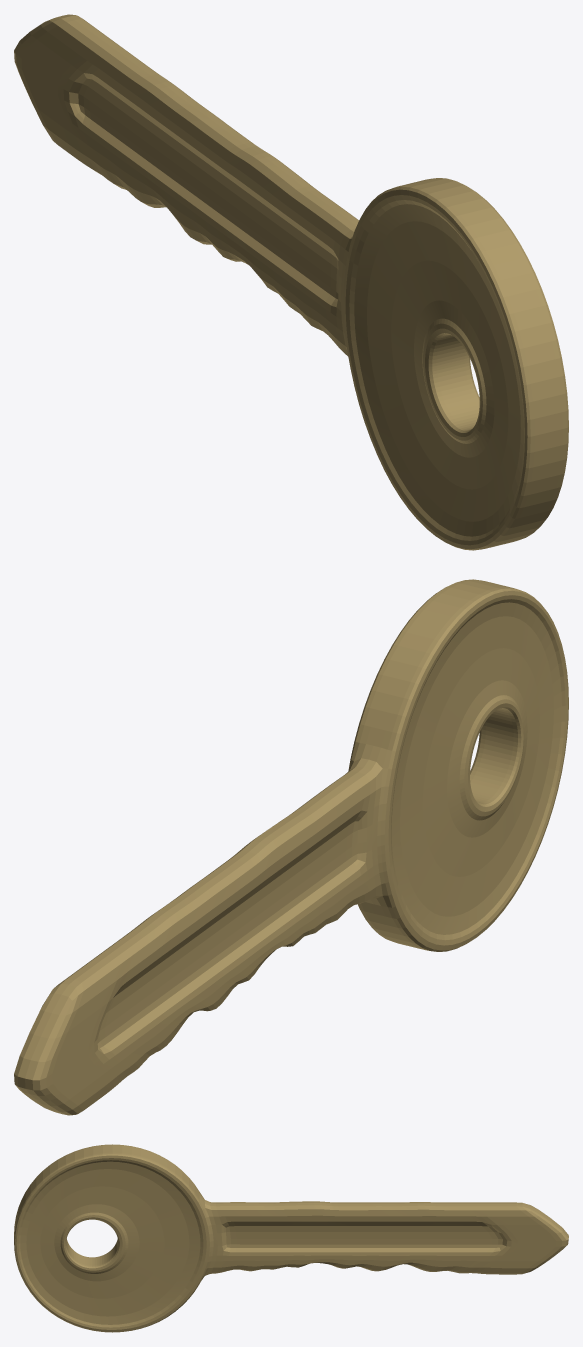
Rendered from cheie.fbx.
The picture shows the model from 3 angles, top to bottom: view 1: azimuth 30°, elevation 25°; view 2: azimuth 150°, elevation 25°; view 3: azimuth 270°, elevation 25°; orthographic projection. The views are drawn at different scales.
Visible parts, largest first — view 1: Circle.010; view 2: Circle.010; view 3: Circle.010.
Part boxes in pixels (left/top/right/bottom): Circle.010: left=14, top=14, right=568, bottom=550; Circle.010: left=14, top=579, right=568, bottom=1115; Circle.010: left=14, top=1144, right=568, bottom=1332.
Bounding box in the file's own units: 1.64 × 12.32 × 34.65.
